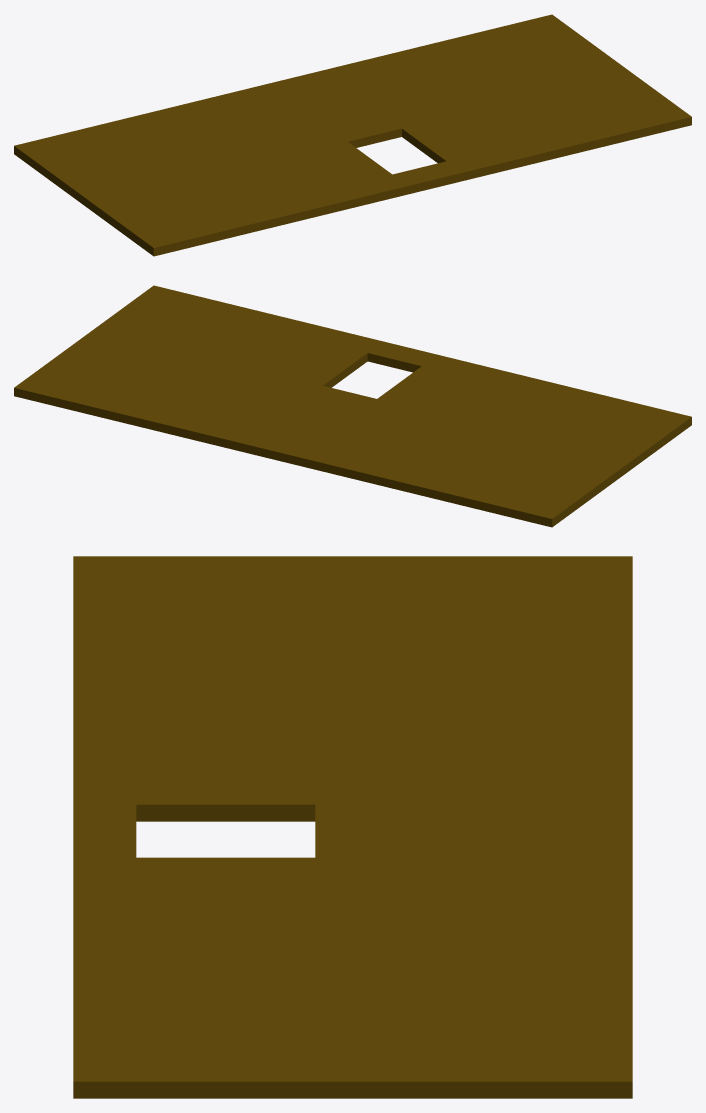
Rendered from floor1.fbx.
3 views of the same model, one above another, from view 1: azimuth 30°, elevation 25°; view 2: azimuth 150°, elevation 25°; view 3: azimuth 270°, elevation 25° (orthographic). The views are drawn at different scales.
Visible parts, largest first — view 1: floor1; view 2: floor1; view 3: floor1.
Boxes of the visible parts, x1,y1,x2,y2 form: floor1: (14,14,691,256); floor1: (14,285,691,527); floor1: (73,556,632,1098).
Size of the model in its own units: 400 by 6 by 180.
